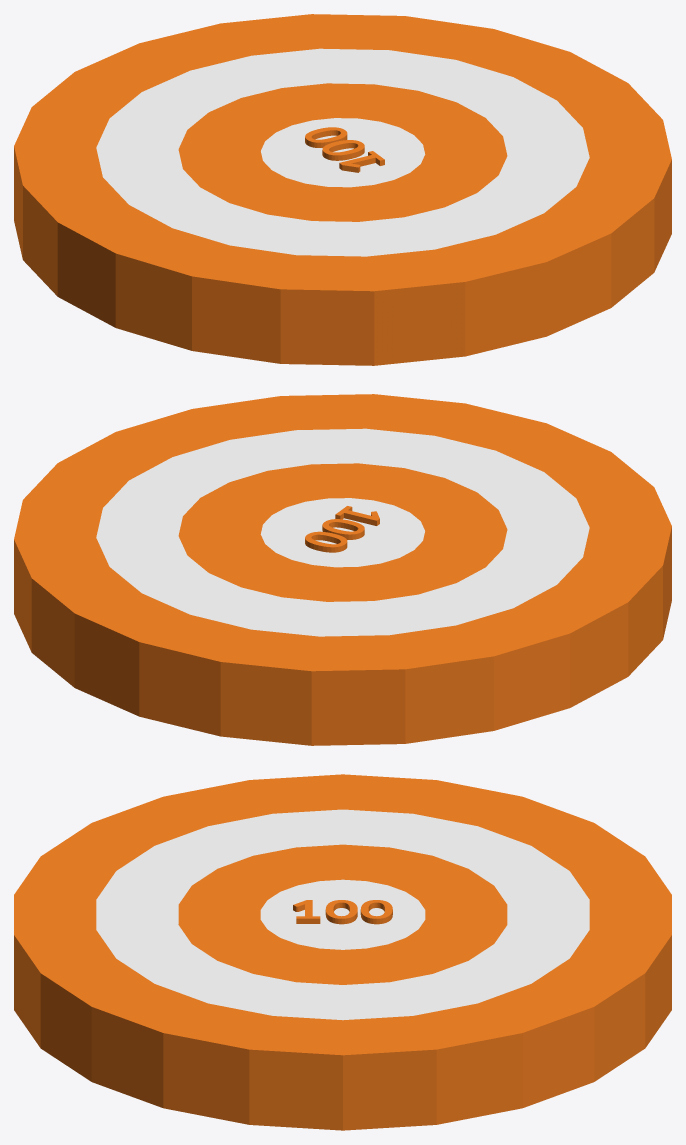
The model's file is Target100.fbx.
3 views of the same model, one above another, from view 1: azimuth 30°, elevation 25°; view 2: azimuth 150°, elevation 25°; view 3: azimuth 270°, elevation 25° (orthographic).
Visible parts, largest first — view 1: divide1; view 2: divide1; view 3: divide1.
Boxes of the visible parts, x1,y1,x2,y2 form: divide1: (14,14,671,365); divide1: (14,394,671,745); divide1: (14,774,671,1130).
Size of the model in its own units: 1 by 0.1341 by 0.9898.
